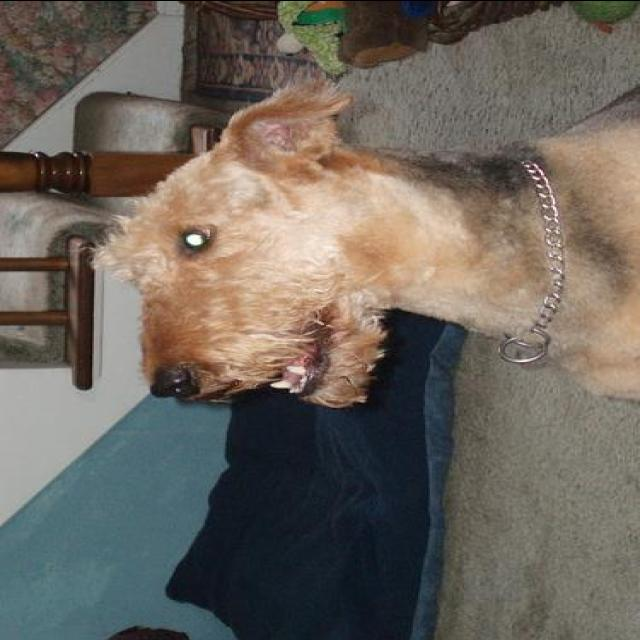airedale: (81, 70, 638, 414)
